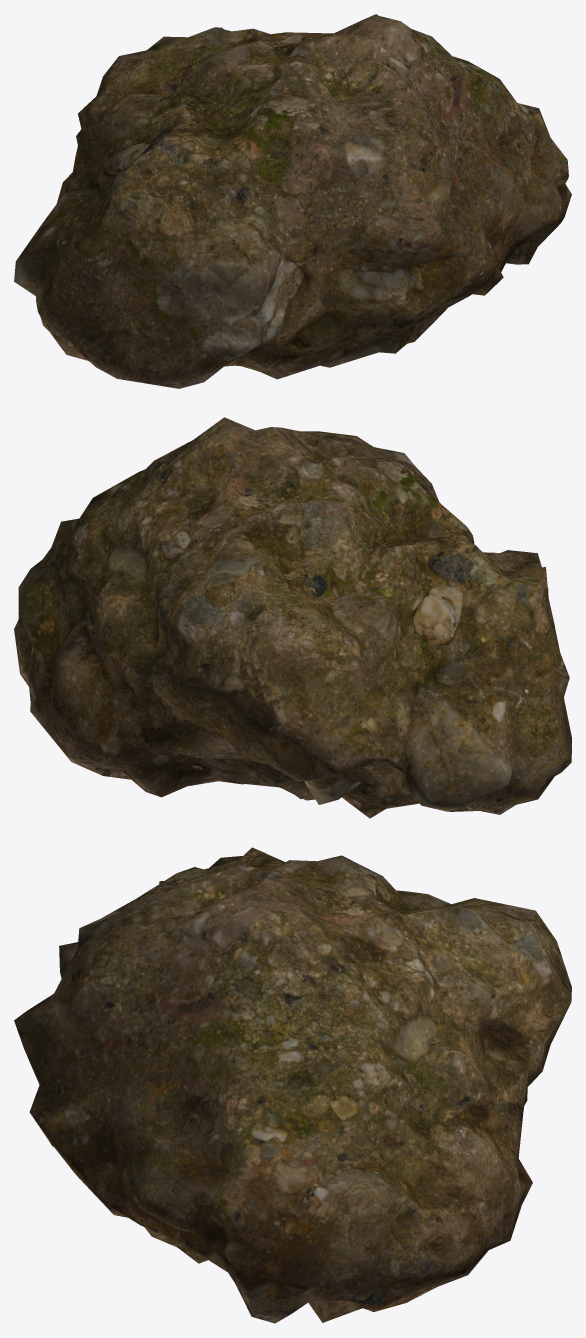
File: vilifcxaw_tier_2.gltf
The picture shows the model from 3 angles, top to bottom: view 1: azimuth 30°, elevation 25°; view 2: azimuth 150°, elevation 25°; view 3: azimuth 270°, elevation 25°; orthographic projection. The views are drawn at different scales.
Visible parts, largest first — view 1: vilifcxaw_LOD0_TIER2_000; view 2: vilifcxaw_LOD0_TIER2_000; view 3: vilifcxaw_LOD0_TIER2_000.
Boxes of the visible parts, x1,y1,x2,y2 form: vilifcxaw_LOD0_TIER2_000: (14, 14, 571, 388); vilifcxaw_LOD0_TIER2_000: (14, 417, 571, 818); vilifcxaw_LOD0_TIER2_000: (14, 847, 571, 1323).
Size of the model in its own units: 0.1645 by 0.0988 by 0.13.
1 material, 1 textured.
